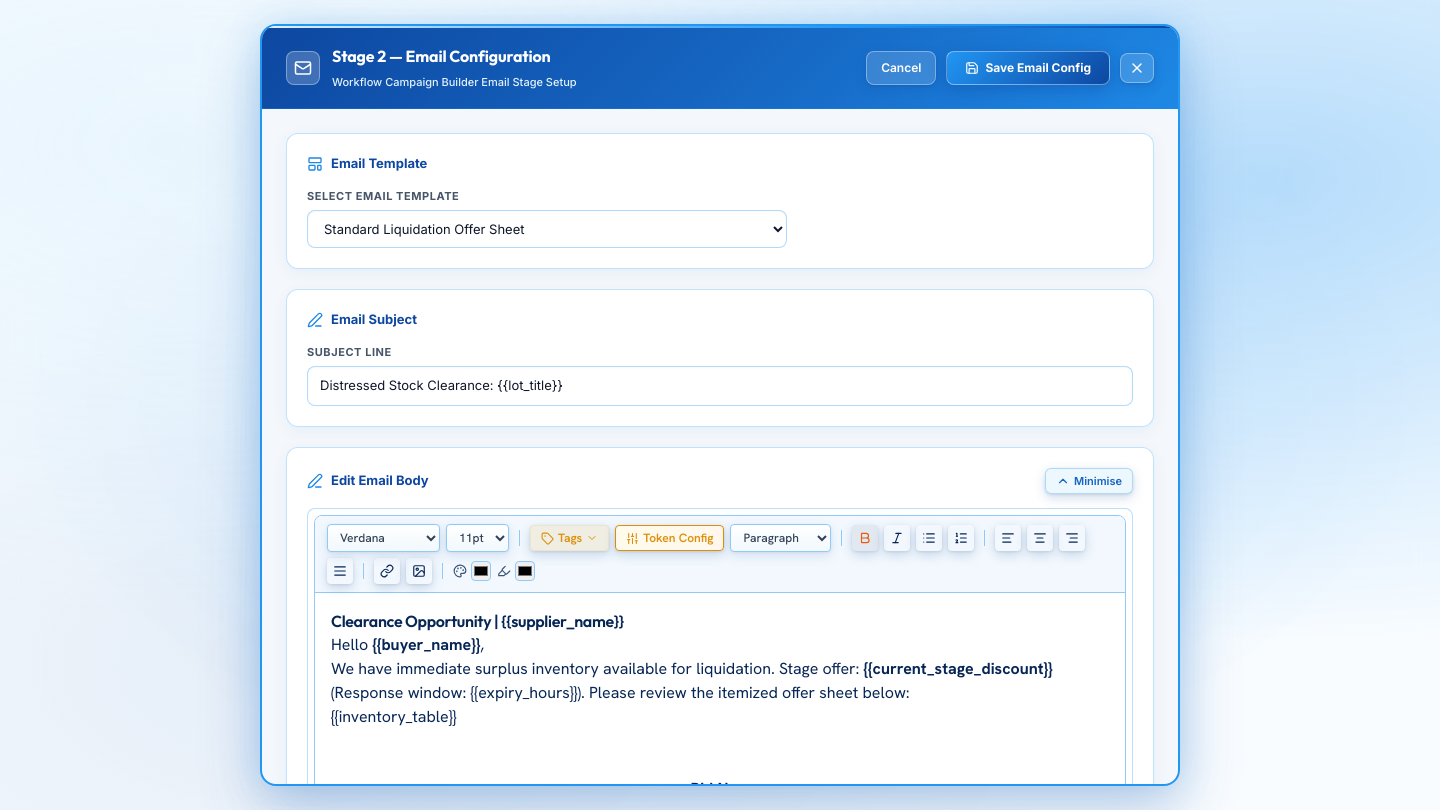
Test: StageEmailModal — Seam G: section minimise / expand toggles › minimise button toggles Edit Email Body visibility
// Click to minimise
Click the button with test id "minimise-body-btn": click(1089, 481) left=1045, top=468, right=1133, bottom=494
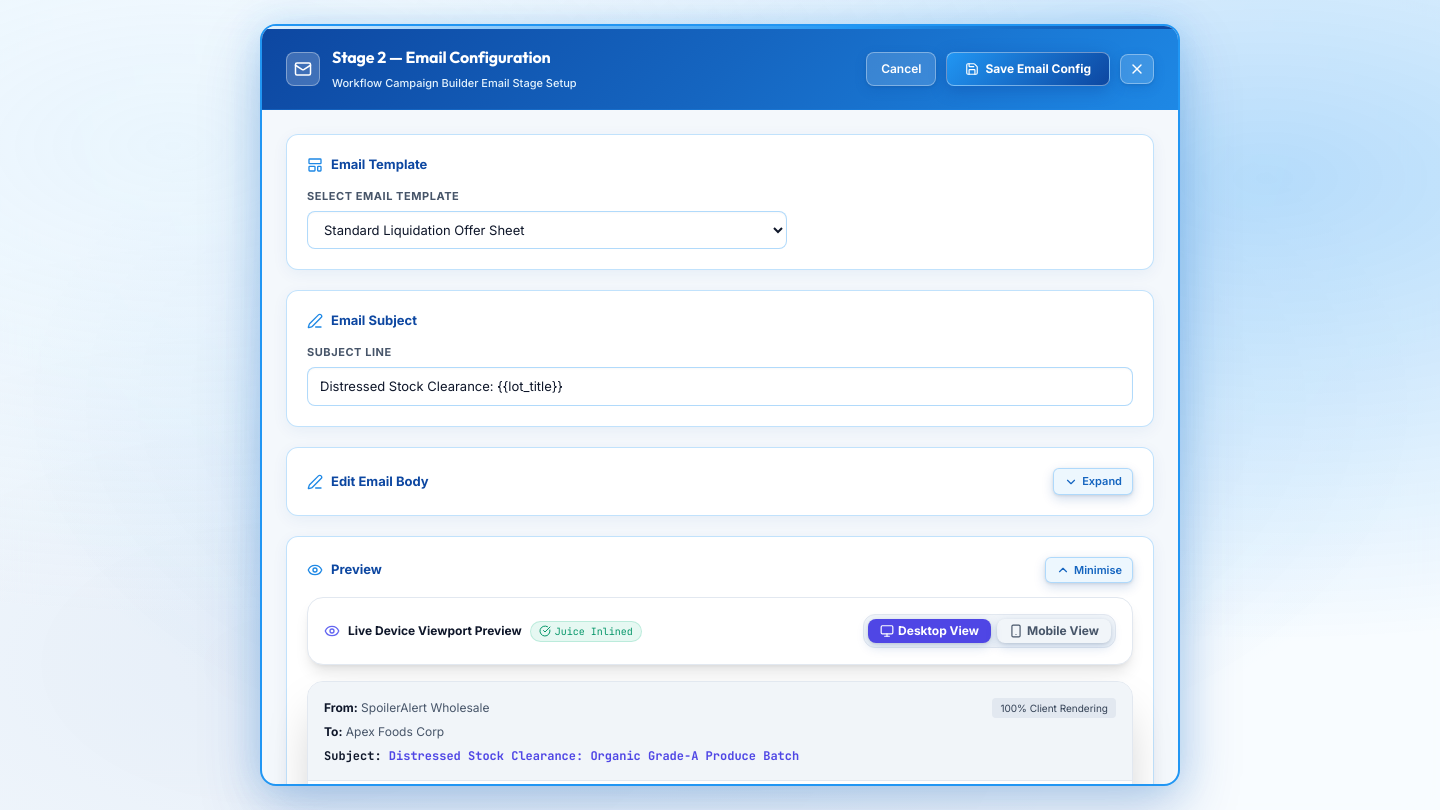
Now the button with test id "minimise-body-btn" reads "Expand"
// Click again to expand
Click the button with test id "minimise-body-btn": click(1093, 482) left=1053, top=468, right=1133, bottom=495
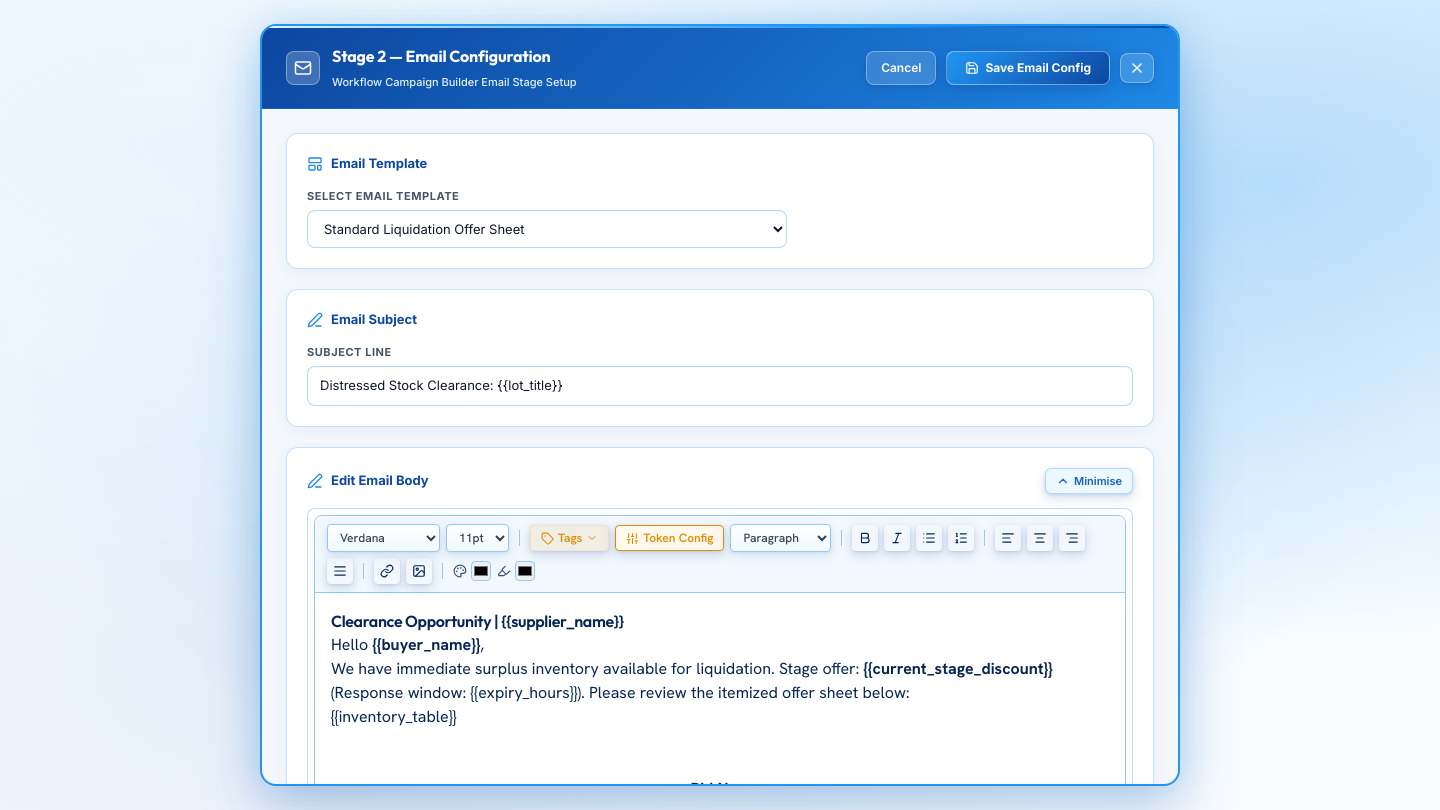
Now the button with test id "minimise-body-btn" reads "Minimise", box left=1045, top=468, right=1133, bottom=494
